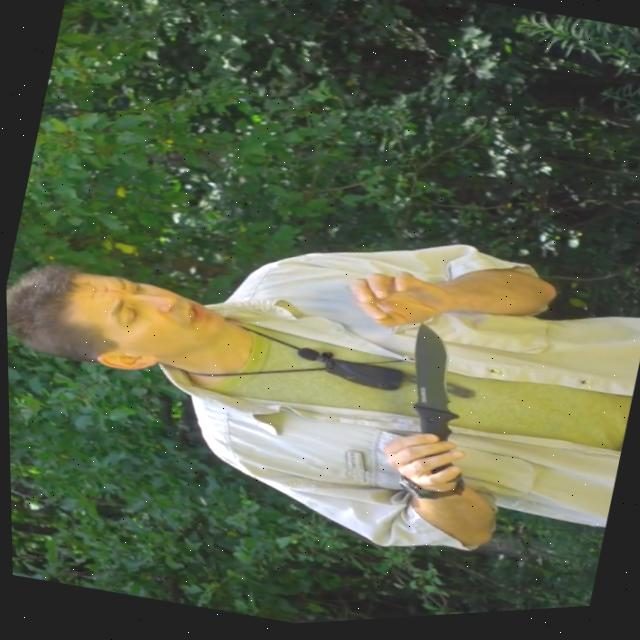knife: (377, 319, 480, 456)
